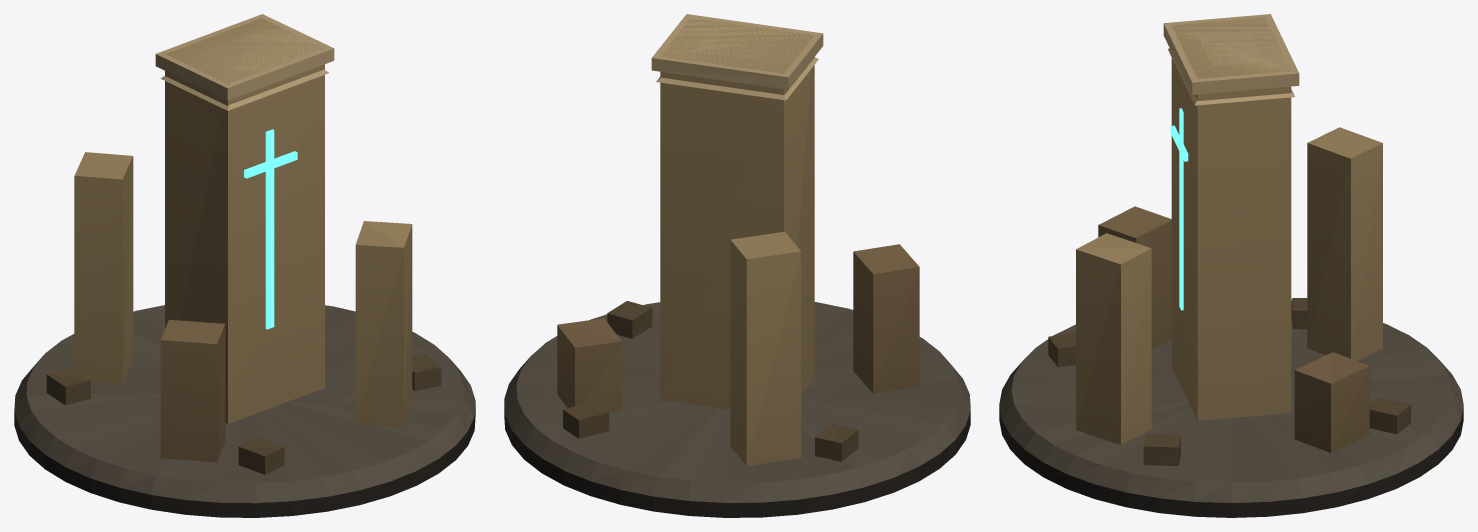
Rendered from temple-monolith.glb.
The picture shows the model from 3 angles, left to right: view 1: azimuth 30°, elevation 25°; view 2: azimuth 150°, elevation 25°; view 3: azimuth 270°, elevation 25°; orthographic projection.
Size of the model in its own units: 3.4 by 3 by 3.4.
